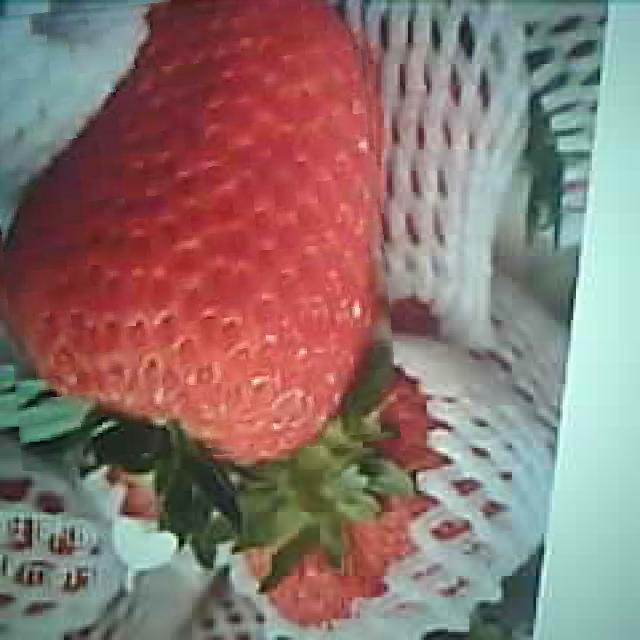strawberry: (0, 0, 392, 463)
